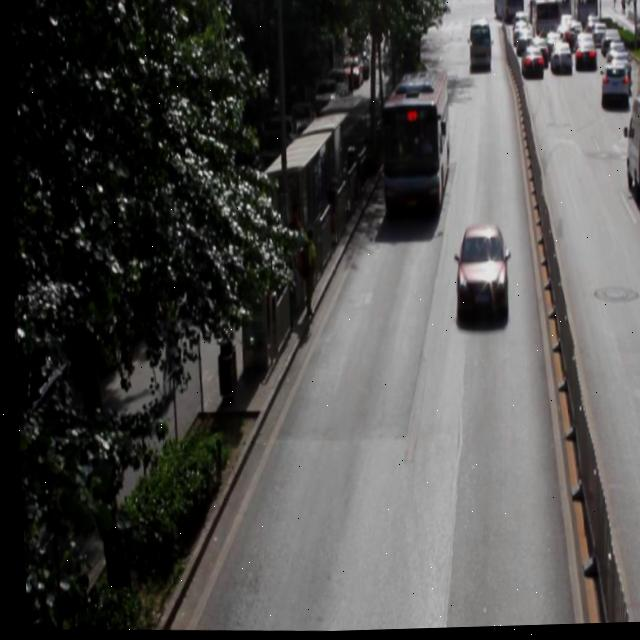car: (448, 221, 506, 314)
truck: (619, 95, 640, 204)
van: (374, 68, 450, 217)
